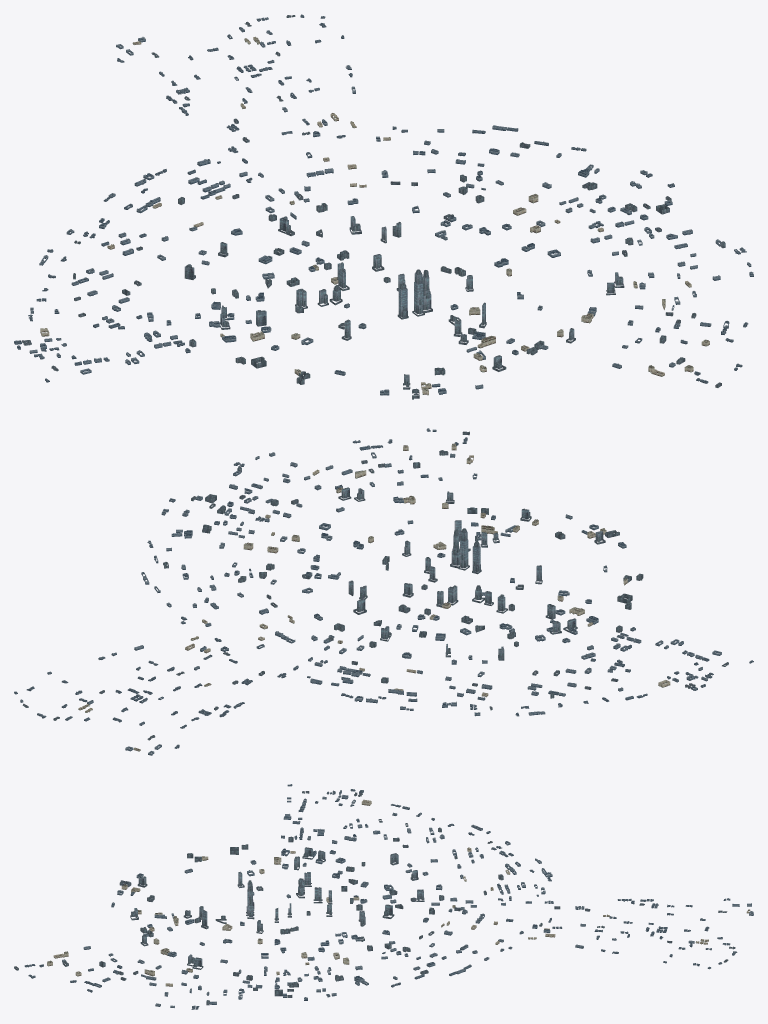
Rendered from city_3d_model_12.glb.
The picture shows the model from 3 angles, top to bottom: view 1: azimuth 30°, elevation 25°; view 2: azimuth 150°, elevation 25°; view 3: azimuth 270°, elevation 25°; orthographic projection. The views are drawn at different scales.
Visible parts, largest first — view 1: Object_16, Object_34, Object_224; view 2: Object_16, Object_34, Object_224; view 3: Object_16, Object_34, Object_224.
Part boxes in pixels (x1,y1,x2,y2): Object_16: [14, 14, 753, 395]; Object_34: [22, 15, 725, 399]; Object_224: [40, 36, 709, 395]; Object_16: [14, 428, 753, 755]; Object_34: [22, 431, 728, 740]; Object_224: [78, 443, 670, 751]; Object_16: [24, 784, 753, 1009]; Object_34: [14, 791, 735, 1005]; Object_224: [47, 799, 750, 986].
Size of the model in its own units: 739 by 51.41 by 961.
Materials: 3 (3 with a texture image).
